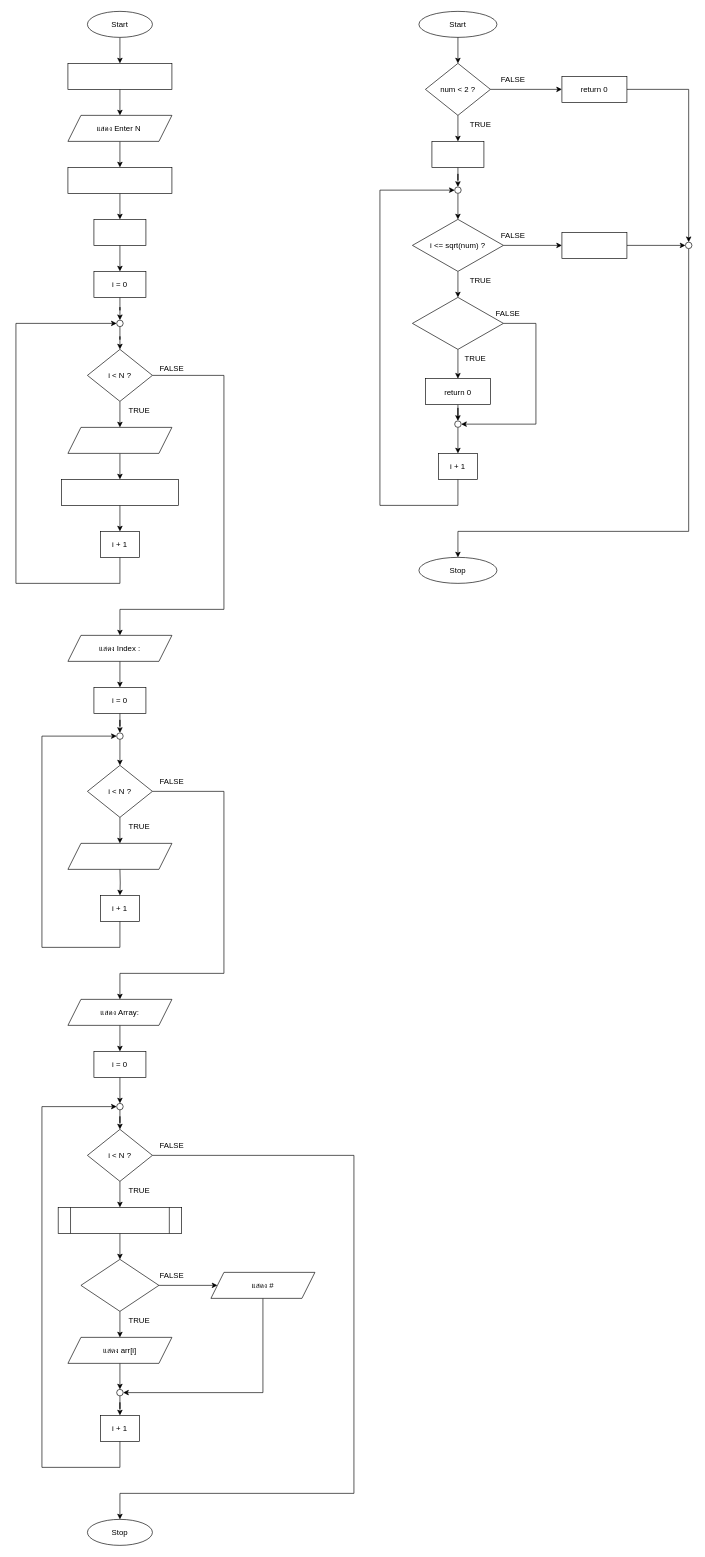
Some shapes in this 705 by 1557 pixel diagram are drawn without their labels. Here are the shapes that lost their labels. From the top down, the centre of each, then its label:
At [119,76]: "ประกาศตัวแปร n".
At [457,154]: "i = 2".
At [119,180]: "สร้างตัวแปร arr[n]".
At [119,232]: "รับค่า N".
At [594,245]: "return 1".
At [457,323]: "num % i == 0 ?".
At [119,440]: "แสดง Enter value".
At [119,492]: "รับค่าตัวเลขเก็บลง arr[i]".
At [119,856]: "แสดงค่า i".
At [120,1220]: "เรียกใช้ isPrime(arr[i])".
At [119,1285]: "ผลลัพธ์เป็นจริง?".
